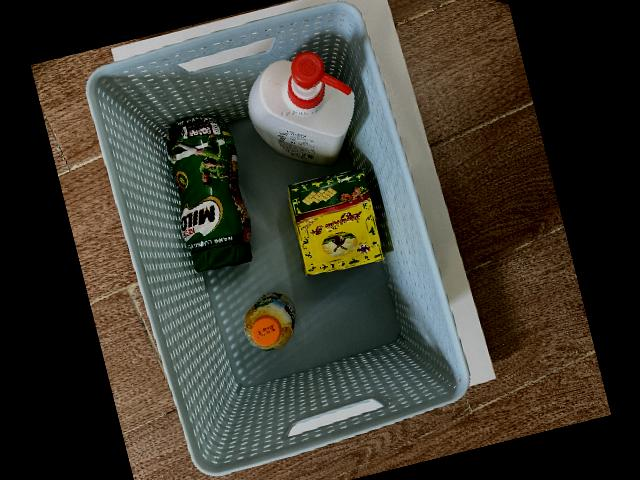cart: (83, 3, 467, 479)
life-buoy: (246, 52, 356, 166)
luong_kho: (284, 168, 383, 276)
milo: (165, 115, 251, 273)
teppy_orange_juice: (242, 292, 294, 351)
